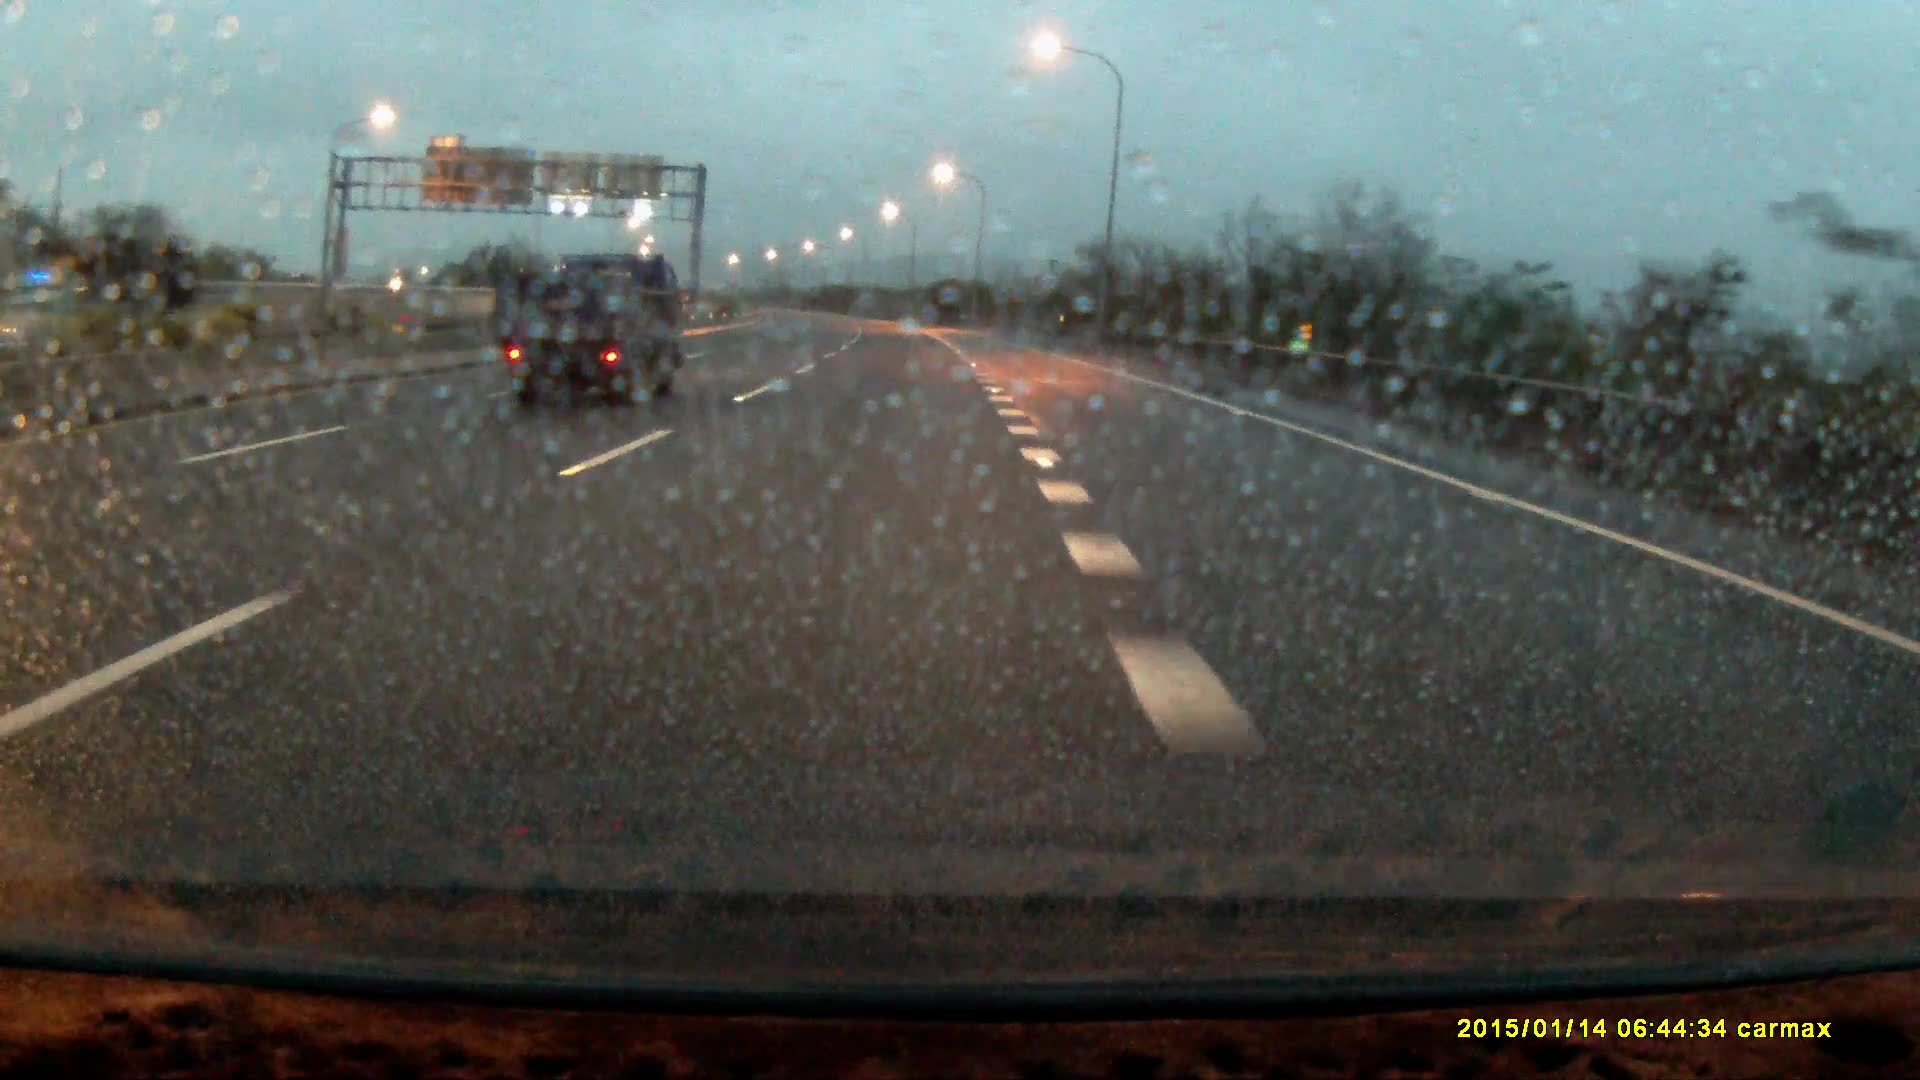vehicle: (495, 251, 688, 407), (26, 232, 202, 328)
